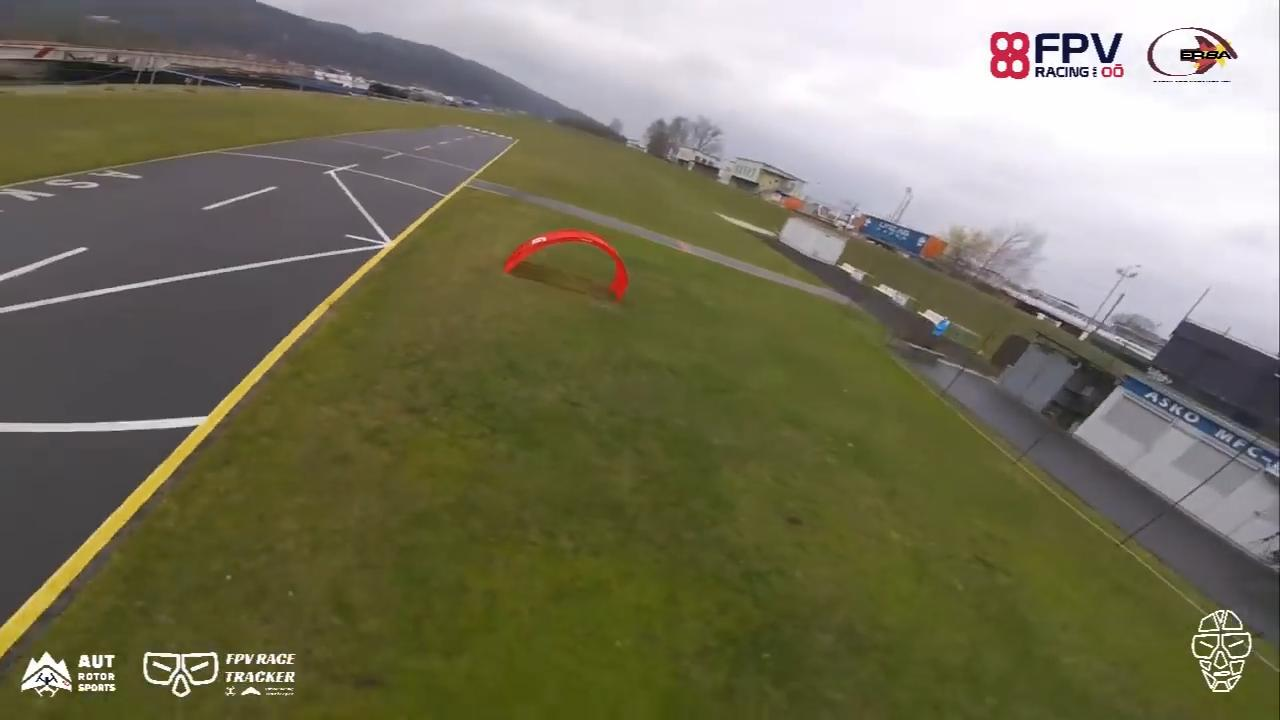gate: (503, 228, 628, 301)
